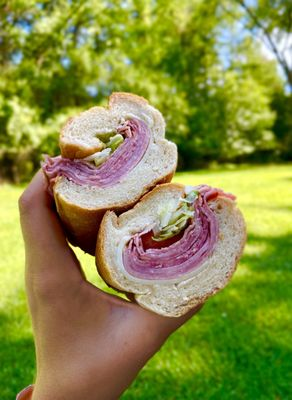pizza: (32, 92, 247, 329)
